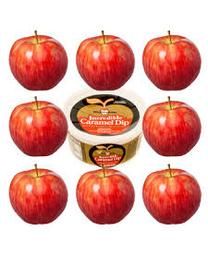apple: (141, 30, 201, 91), (75, 31, 135, 90), (143, 165, 202, 225), (10, 30, 68, 91), (10, 97, 68, 157), (10, 165, 67, 225), (143, 99, 202, 155), (77, 167, 134, 224)
